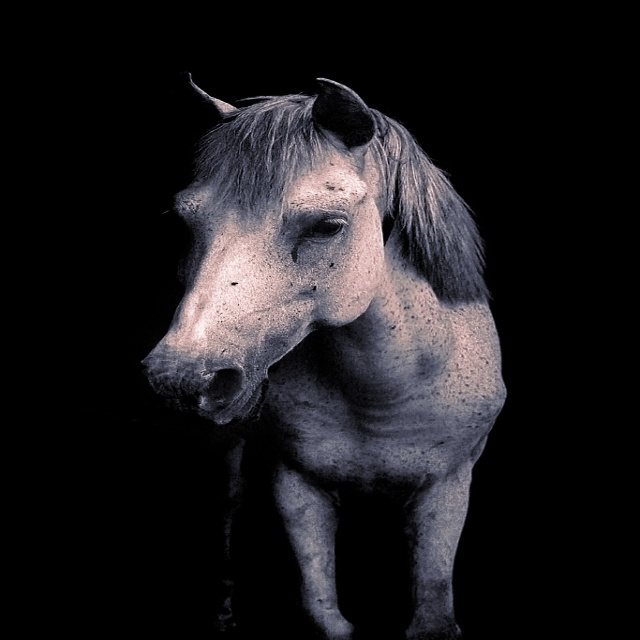Horse: (135, 75, 504, 640)
